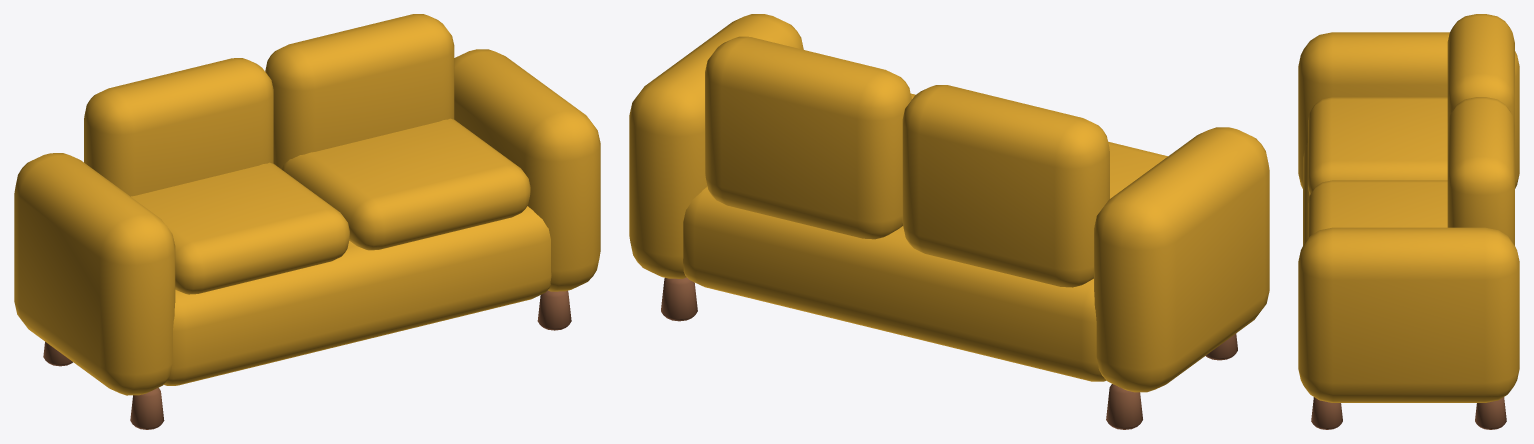
The model's file is Garage_Sofa.fbx.
3 views of the same model, side by side, from view 1: azimuth 30°, elevation 25°; view 2: azimuth 150°, elevation 25°; view 3: azimuth 270°, elevation 25° (orthographic). The views are drawn at different scales.
Parts seen in each view (by area): view 1: Mustard, Wood; view 2: Mustard, Wood; view 3: Mustard, Wood.
Boxes of the visible parts, <box> form: Mustard: <box>14,14,600,395</box>; Wood: <box>43,290,571,429</box>; Mustard: <box>629,14,1269,392</box>; Wood: <box>661,277,1237,429</box>; Mustard: <box>1298,14,1519,402</box>; Wood: <box>1311,397,1506,429</box>.
Size of the model in its own units: 7 by 3.5 by 2.88.
